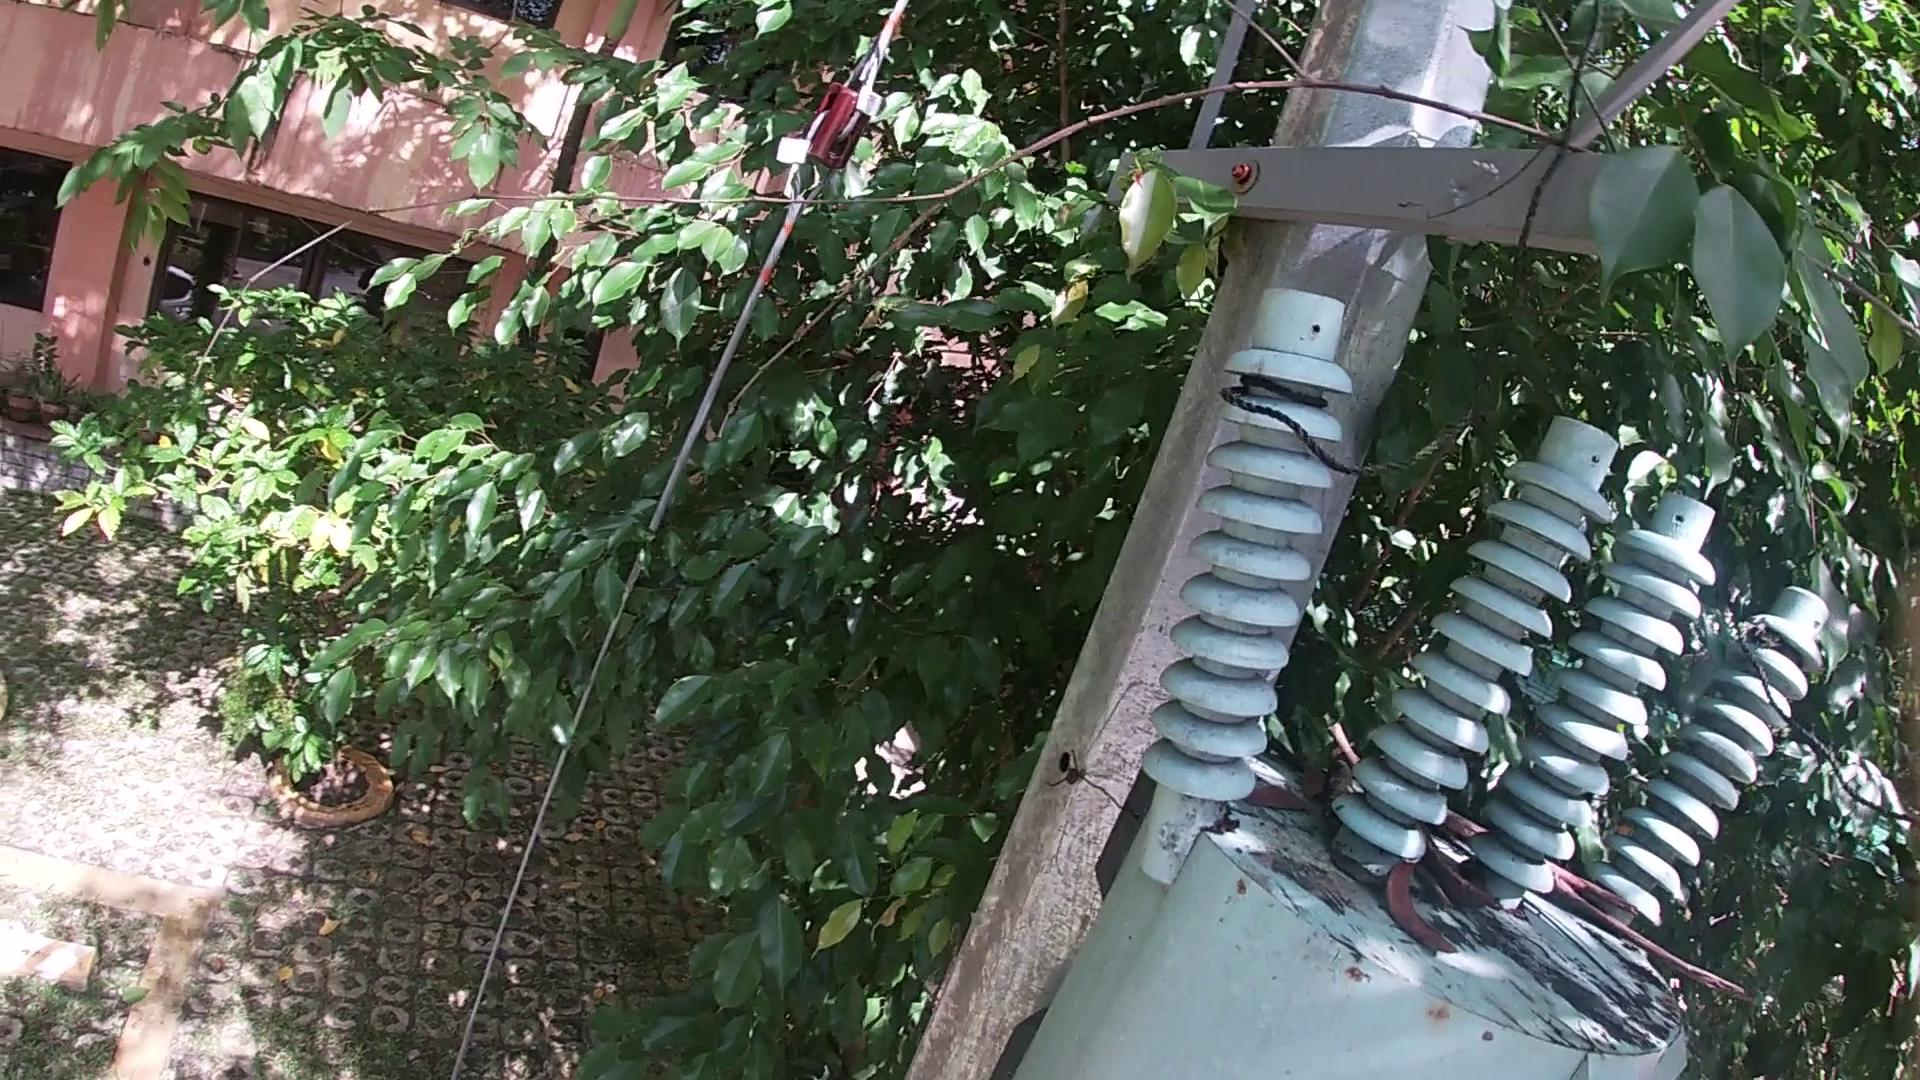leaf: (1242, 790, 1308, 816), (1321, 852, 1366, 887)
mahogany fruit: (1393, 868, 1466, 955), (1429, 841, 1501, 916)
tree branch: (161, 7, 1920, 516), (1552, 868, 1766, 997), (1319, 717, 1353, 764), (1449, 806, 1487, 839), (1331, 738, 1349, 804)
